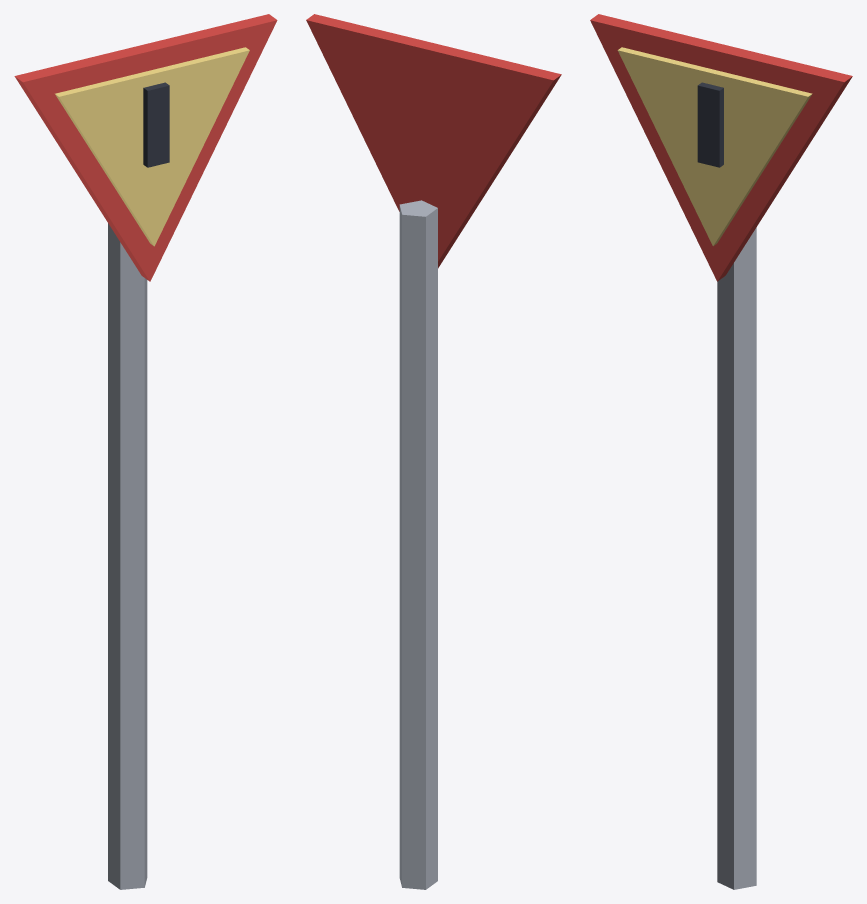
File: prop_warning_sign.glb
3 views of the same model, side by side, from view 1: azimuth 30°, elevation 25°; view 2: azimuth 150°, elevation 25°; view 3: azimuth 330°, elevation 25° (orthographic). The views are drawn at different scales.
Visible parts, largest first — view 1: prop_warning_sign; view 2: prop_warning_sign; view 3: prop_warning_sign.
Part boxes in pixels (x1,y1,x2,y2): prop_warning_sign: (14, 14, 277, 889); prop_warning_sign: (306, 14, 561, 889); prop_warning_sign: (590, 14, 852, 889).
Size of the model in its own units: 0.0693 by 0.22 by 0.0188.
